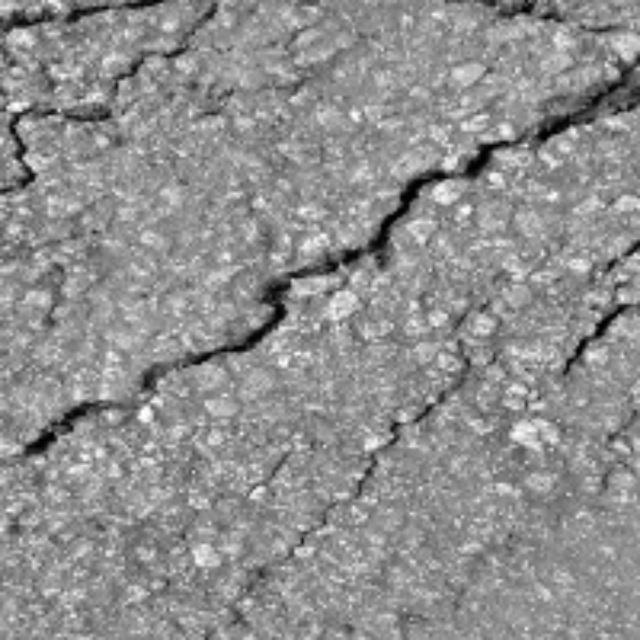Crack: (4, 1, 640, 628)
